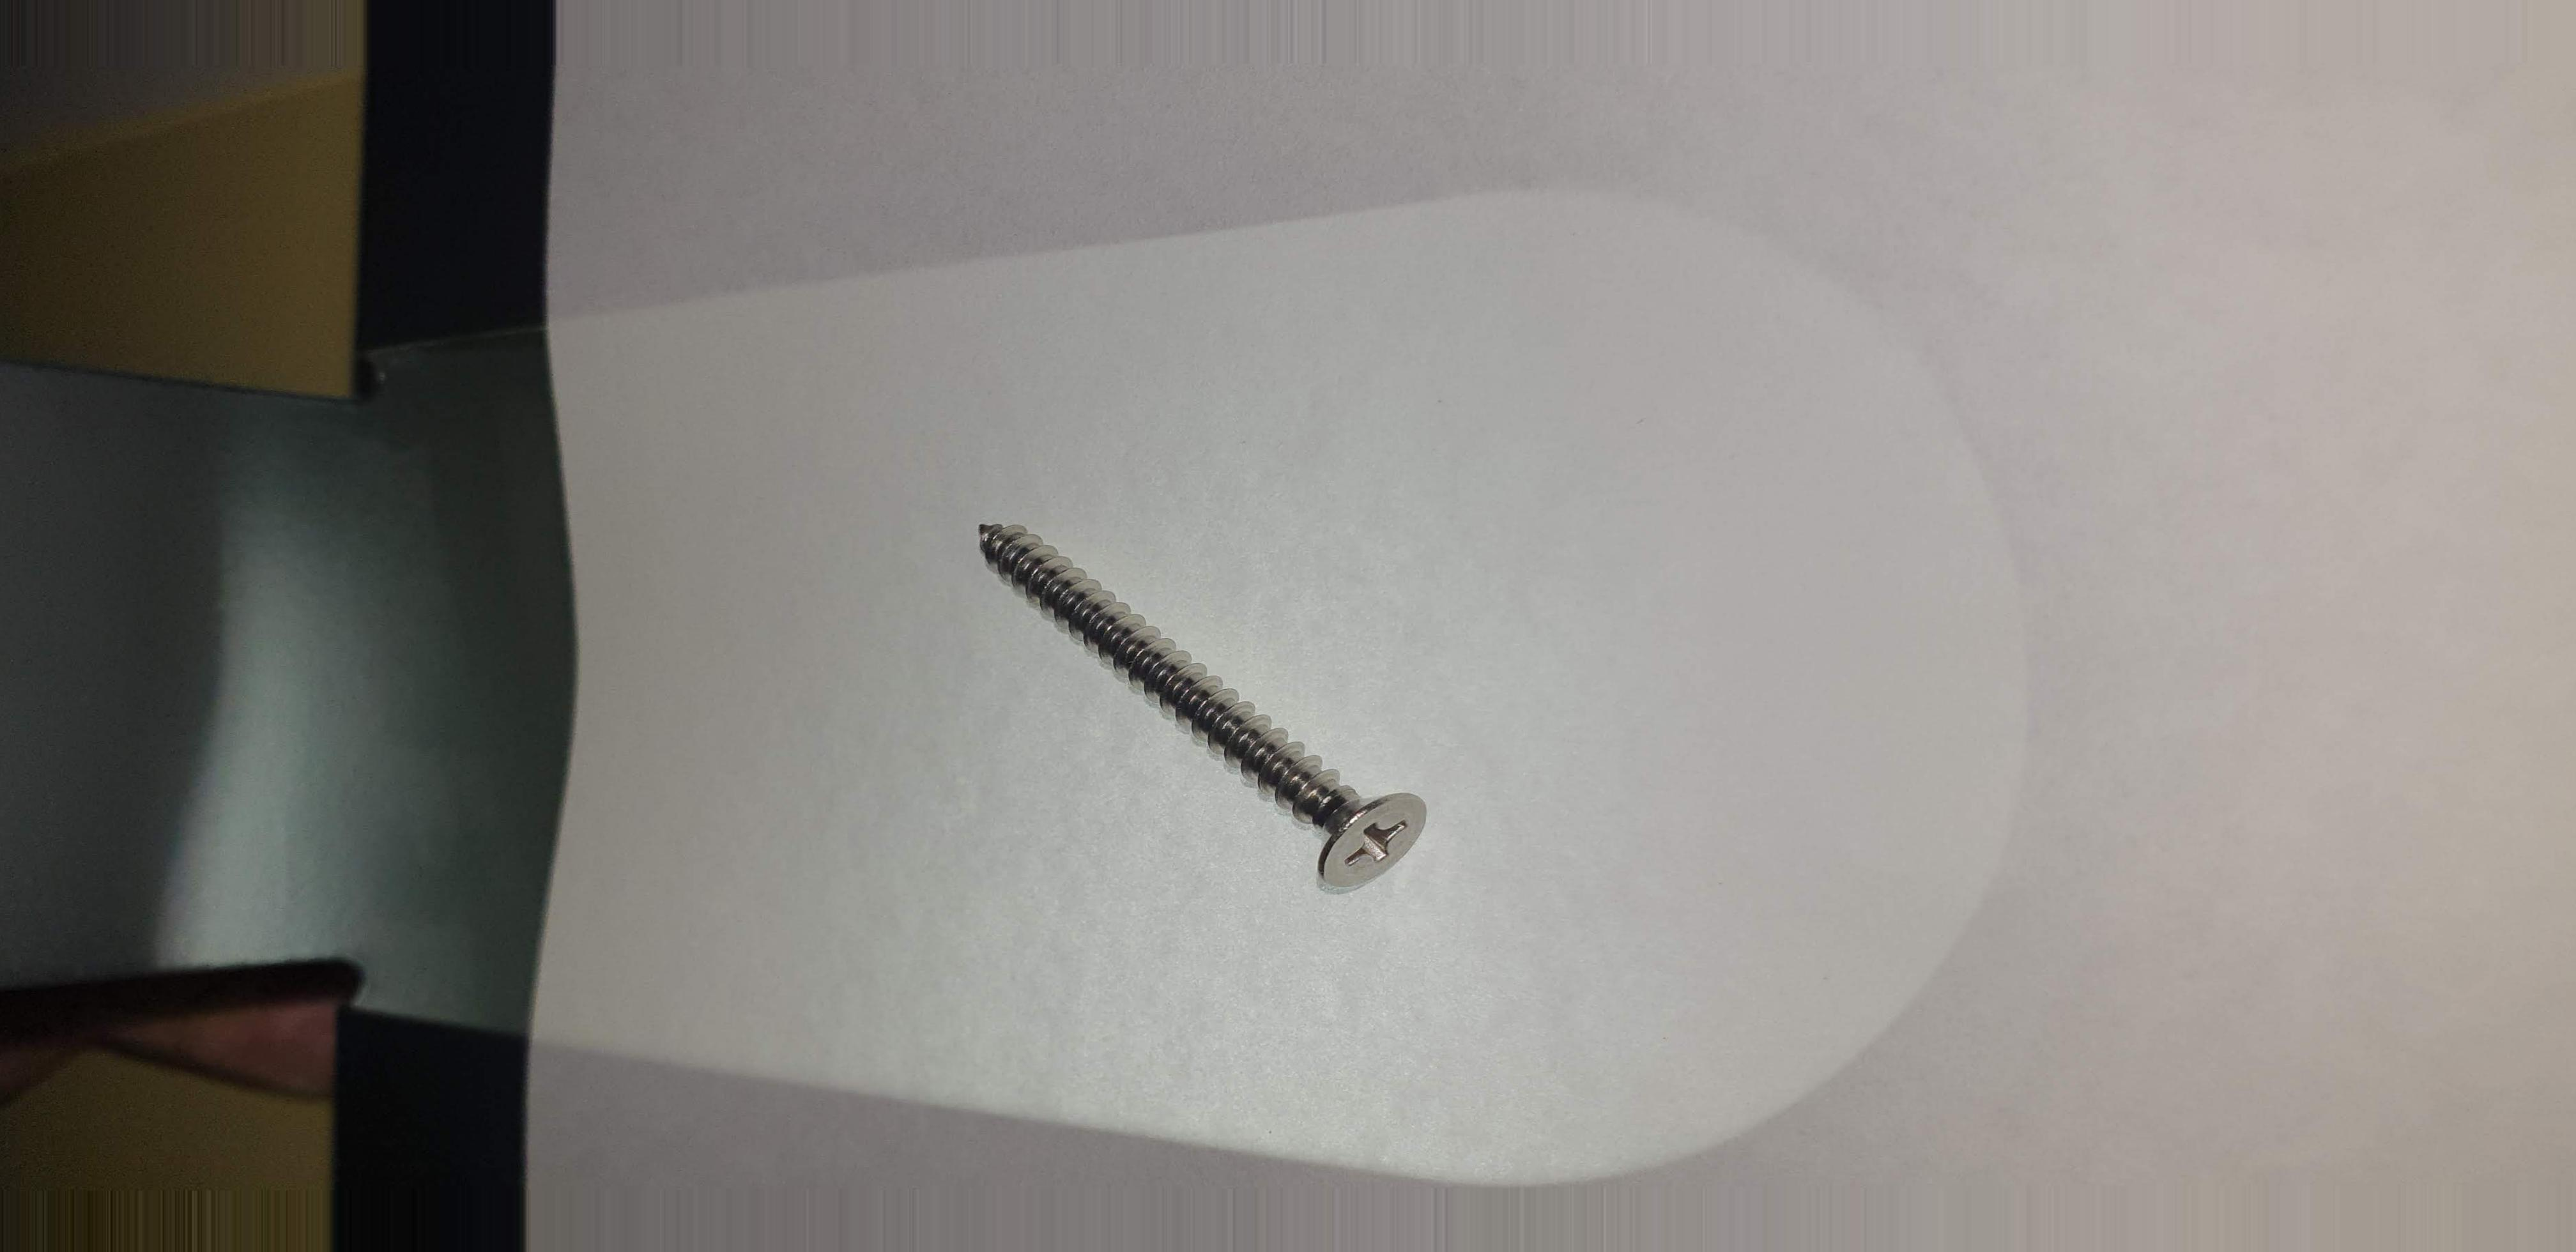fastener: (908, 478, 1515, 950)
